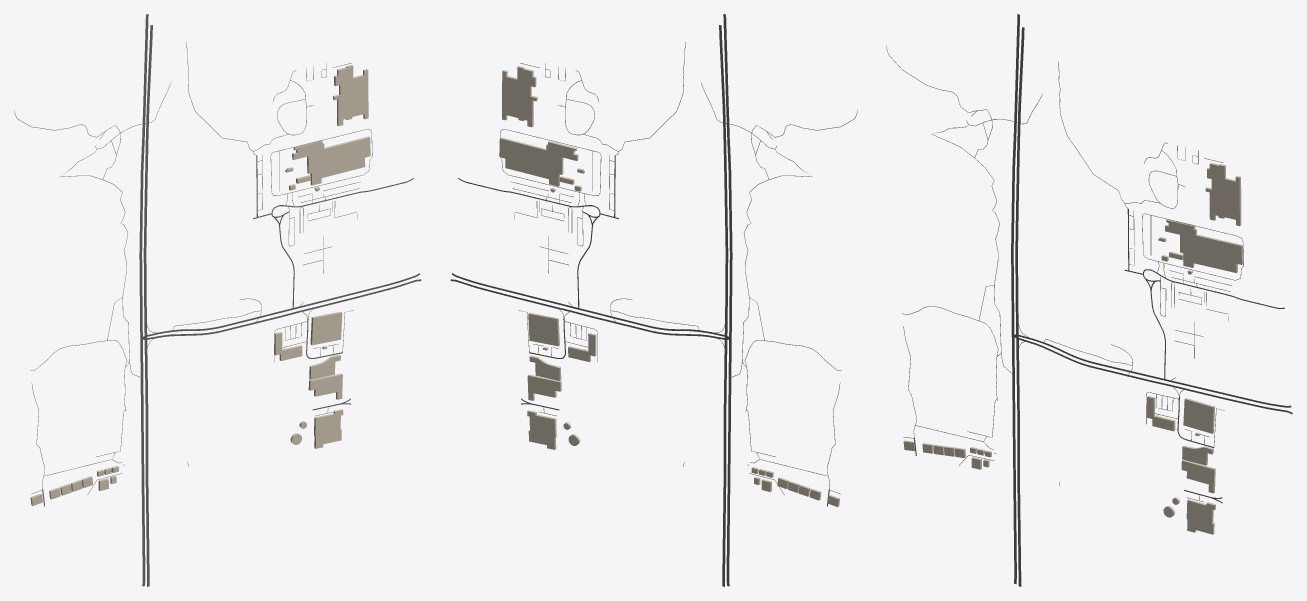
File: historic-palestine-08_26_3495_3201.glb
3 views of the same model, side by side, from view 1: azimuth 30°, elevation 25°; view 2: azimuth 150°, elevation 25°; view 3: azimuth 330°, elevation 25° (orthographic).
Parts seen in each view (by area): view 1: Building_.018, Building_.017, Road 444, Road 444.001, Building_.015, Building_.011, Road 444.004, Road 444.002, Road .008, Building_, Road .064; view 2: Building_.018, Building_.017, Road 444, Road 444.001, Building_.015, Building_.011, Road 444.004, Road 444.002, Road .008, Building_, Road .064; view 3: Building_.018, Building_.017, Road 444, Road 444.001, Building_.015, Building_.011, Road 444.002, Road 444.004, Road .008, Building_, Road .064.
Part boxes in pixels (x1,y1,x2,y2): Building_.018: (292, 136, 370, 185); Building_.017: (333, 65, 368, 126); Road 444: (139, 14, 148, 338); Road 444.001: (143, 25, 152, 336); Building_.015: (310, 311, 342, 345); Building_.011: (314, 409, 343, 448); Road 444.004: (144, 339, 149, 586); Road 444.002: (140, 338, 145, 586); Road .008: (146, 273, 419, 336); Building_: (308, 373, 342, 399); Road .064: (156, 279, 421, 338); Building_.018: (500, 137, 578, 186); Building_.017: (502, 66, 537, 127); Road 444: (723, 14, 732, 338); Road 444.001: (719, 25, 728, 336); Building_.015: (528, 312, 559, 346); Building_.011: (527, 410, 556, 449); Road 444.004: (722, 339, 727, 586); Road 444.002: (726, 338, 731, 586); Road .008: (452, 273, 725, 336); Building_: (527, 374, 561, 400); Road .064: (450, 279, 715, 338); Building_.018: (1165, 219, 1243, 272); Building_.017: (1205, 162, 1241, 226); Road 444: (1011, 14, 1019, 335); Road 444.001: (1015, 27, 1024, 335); Building_.015: (1183, 398, 1214, 433); Building_.011: (1186, 499, 1215, 534); Road 444.002: (1011, 335, 1016, 584); Road 444.004: (1016, 338, 1021, 586); Road .008: (1017, 334, 1291, 407); Building_: (1181, 459, 1215, 493); Road .064: (1027, 341, 1292, 414).
Size of the model in its own units: 1225 by 1646 by 8.7.
